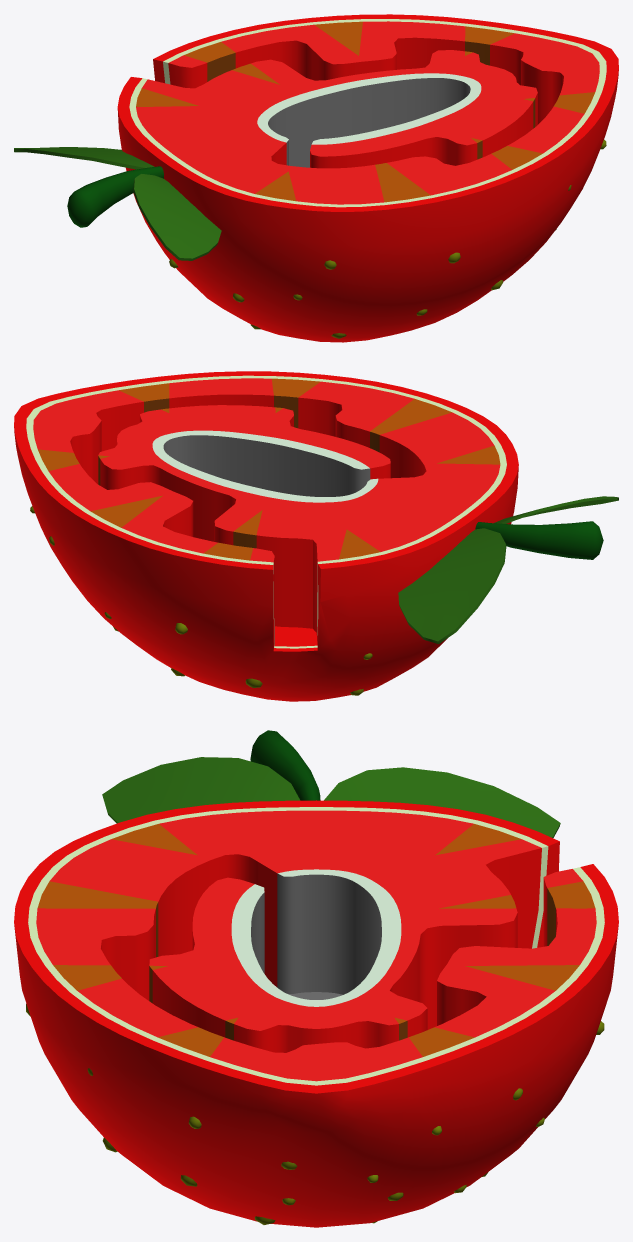
Rendered from Strawberry.FBX.
3 renders of one model, top to bottom at view 1: azimuth 30°, elevation 25°; view 2: azimuth 150°, elevation 25°; view 3: azimuth 270°, elevation 25°, orthographic. The views are drawn at different scales.
Visible parts, largest first — view 1: Object8250, Object8254, Object8248, Plane003, Object8252, Object8249, Line006, Object8253, Sphere003; view 2: Object8250, Object8254, Plane003, Object8248, Object8252, Line006, Object8249, Object8253, Sphere003; view 3: Object8250, Plane003, Object8254, Object8248, Object8252, Object8249, Line006, Sphere003, Object8253.
Boxes of the visible parts, x1,y1,x2,y2 form: Object8250: [117, 14, 618, 342]; Object8254: [268, 78, 470, 167]; Object8248: [136, 21, 595, 202]; Plane003: [14, 147, 221, 260]; Object8252: [149, 126, 275, 175]; Object8249: [257, 73, 481, 144]; Line006: [67, 166, 163, 227]; Object8253: [207, 41, 535, 159]; Sphere003: [169, 139, 606, 338]; Object8250: [14, 371, 518, 701]; Object8254: [163, 435, 370, 496]; Plane003: [398, 496, 618, 643]; Object8248: [38, 378, 500, 560]; Object8252: [359, 484, 486, 534]; Line006: [475, 521, 603, 559]; Object8249: [152, 430, 378, 502]; Object8253: [98, 395, 379, 548]; Sphere003: [30, 506, 372, 695]; Object8250: [14, 800, 618, 1227]; Plane003: [102, 757, 560, 837]; Object8254: [251, 873, 381, 999]; Object8248: [37, 824, 595, 1056]; Object8252: [238, 810, 394, 870]; Object8249: [231, 869, 401, 1006]; Line006: [250, 730, 320, 800]; Sphere003: [26, 1004, 604, 1224]; Object8253: [149, 888, 555, 1040].
Size of the model in its own units: 256 by 181 by 92.3.
